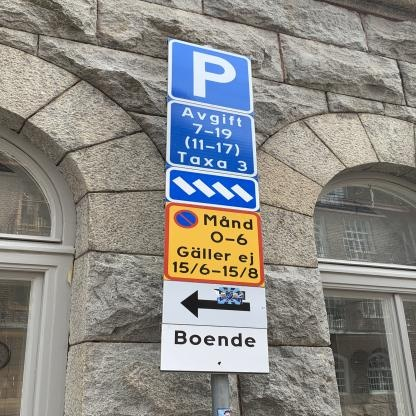P-skylt: (166, 36, 254, 115)
